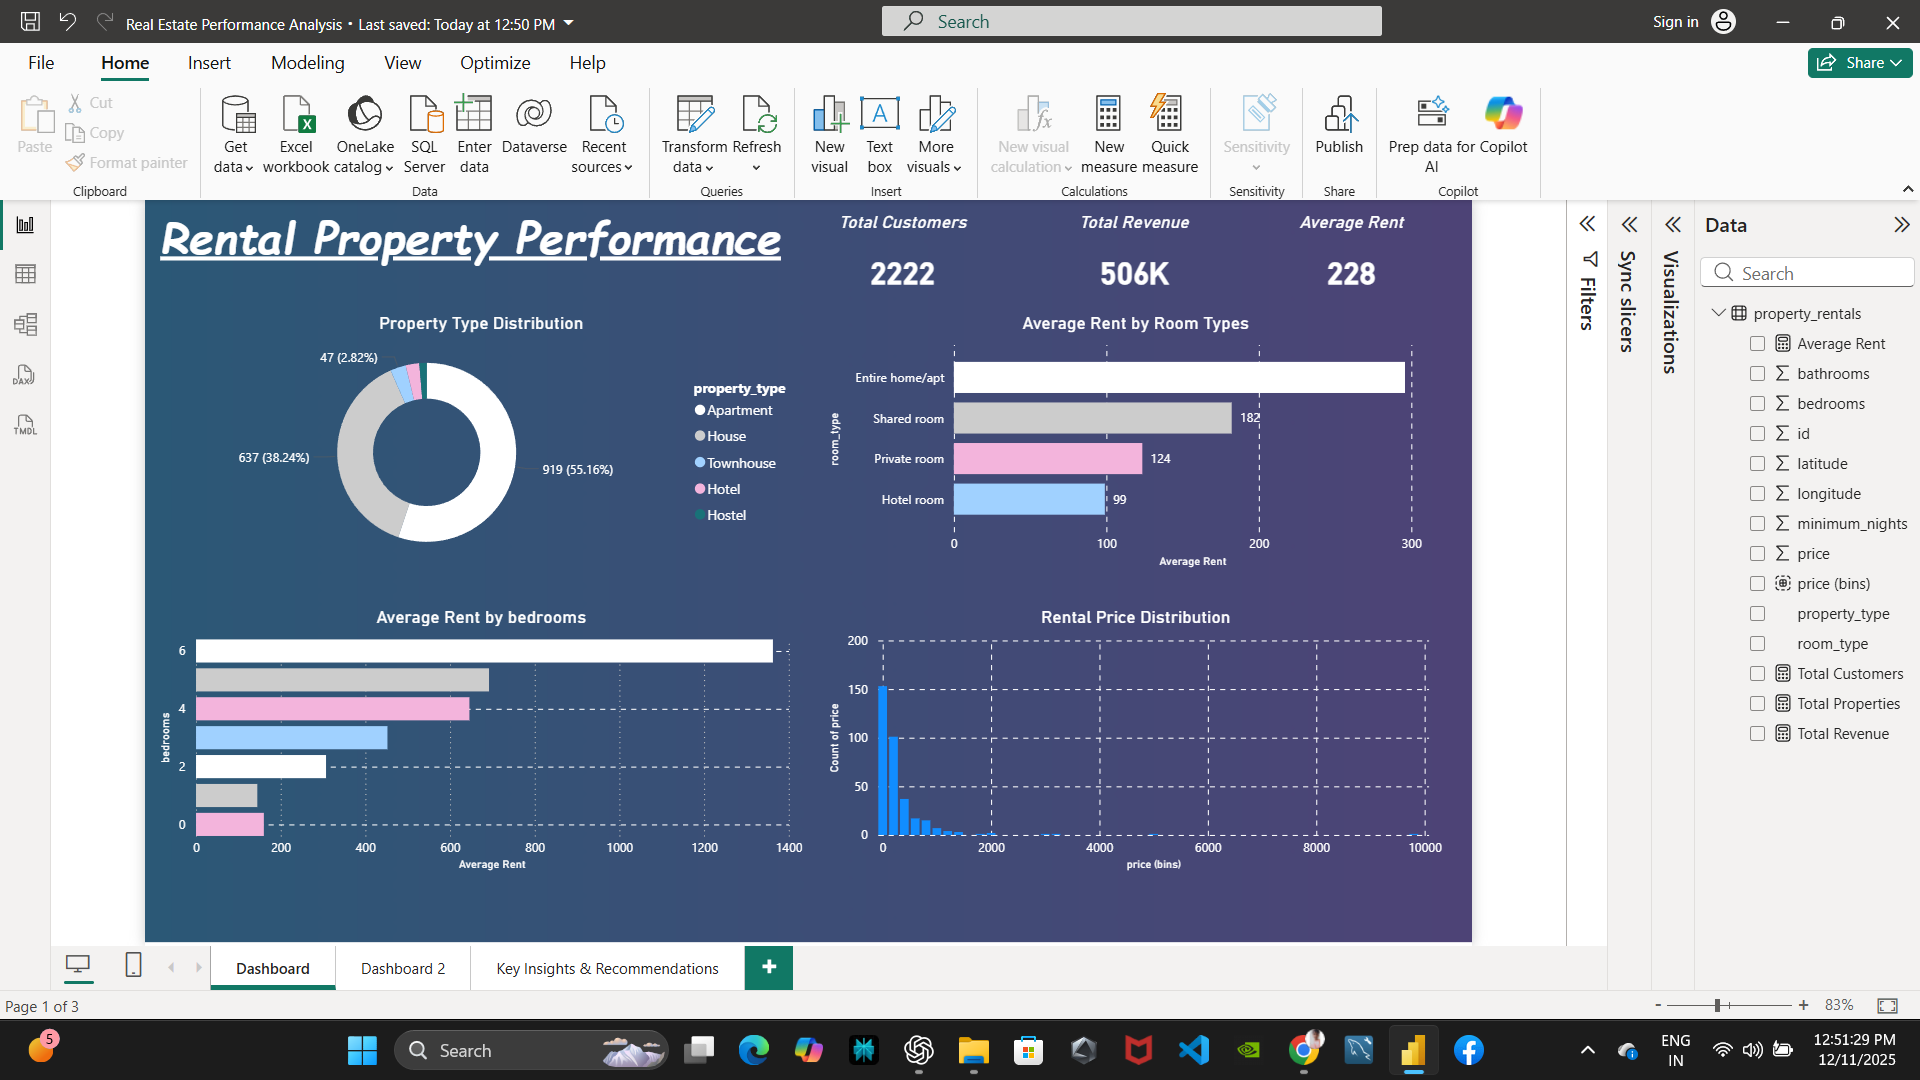

This screenshot's page, from the dashboard's own definition file:
{"tool":"powerbi","page":{"name":"Dashboard","canvas":[1280,720],"ordinal":0},"visuals":[{"type":"textbox","box":[9.6,0,629.8,74.1],"z":0},{"type":"card","title":"Total Customers","fields":{"Values":["property_rentals.Total Customers"]},"box":[639.5,11,183.9,97.4],"z":1000},{"type":"card","title":"Total Revenue","fields":{"Values":["property_rentals.Total Revenue"]},"box":[863.1,11,183.9,97.4],"z":2000},{"type":"card","title":"Average Rent","fields":{"Values":["property_rentals.Average Rent"]},"box":[1073.1,11,183.9,97.4],"z":3000},{"type":"donutChart","title":"Property Type Distribution","fields":{"Category":["property_rentals.property_type"],"Y":["Count(property_rentals.id)"]},"box":[9.6,108.4,629.8,251.1],"z":4000},{"type":"clusteredBarChart","title":"Average Rent by Room Types","fields":{"Category":["property_rentals.room_type"],"Y":["property_rentals.Average Rent"]},"box":[654.5,108.4,602.4,251.1],"z":5000},{"type":"barChart","fields":{"Y":["property_rentals.Average Rent"],"Category":["property_rentals.bedrooms"]},"box":[9.6,392.5,629.8,260.7],"z":6000},{"type":"columnChart","title":"Rental Price Distribution","fields":{"Y":["Count(property_rentals.price)"],"Category":["property_rentals.price (bins)"]},"box":[654.5,392.5,602.4,260.7],"z":7000}]}

Visuals, with their boxes on the page's 1280x720 design canvas (x1, y1, x2, y2). These are canvas units, not pixel positions in the 1920x1080 screenshot, which may show the page scaled, cropped or inside an application window:
textbox: bbox(10, 0, 639, 74)
"Total Customers" card: bbox(640, 11, 823, 108)
"Total Revenue" card: bbox(863, 11, 1047, 108)
"Average Rent" card: bbox(1073, 11, 1257, 108)
"Property Type Distribution" donutChart: bbox(10, 108, 639, 360)
"Average Rent by Room Types" clusteredBarChart: bbox(654, 108, 1257, 360)
barChart - property_rentals.Average Rent x property_rentals.bedrooms: bbox(10, 392, 639, 653)
"Rental Price Distribution" columnChart: bbox(654, 392, 1257, 653)
